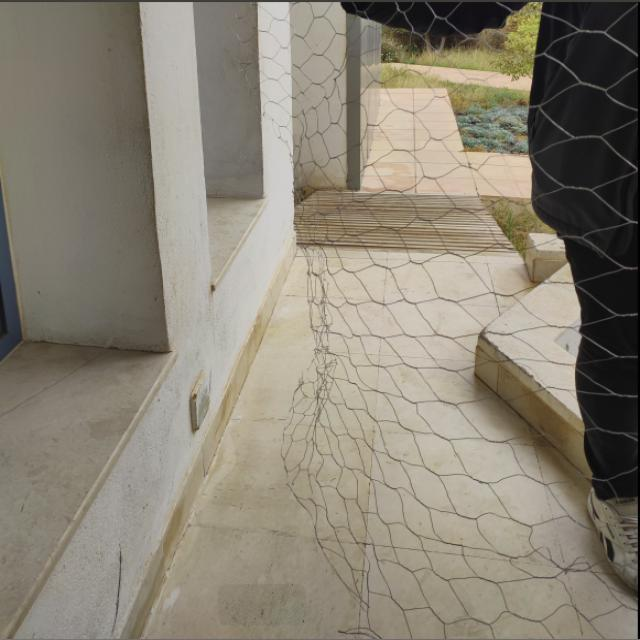fence line: (236, 93, 336, 571)
